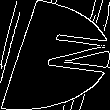N_W: (7, 30, 103, 80)
